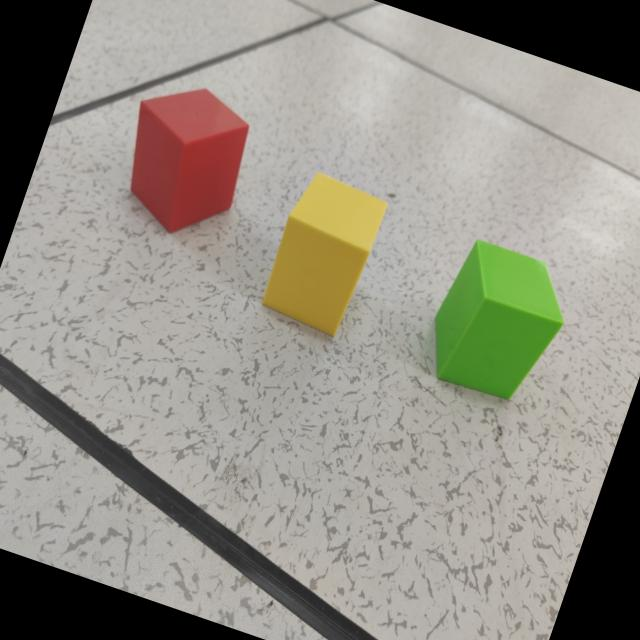green: (433, 240, 562, 402)
red: (129, 90, 249, 235)
yellow: (262, 174, 387, 337)
